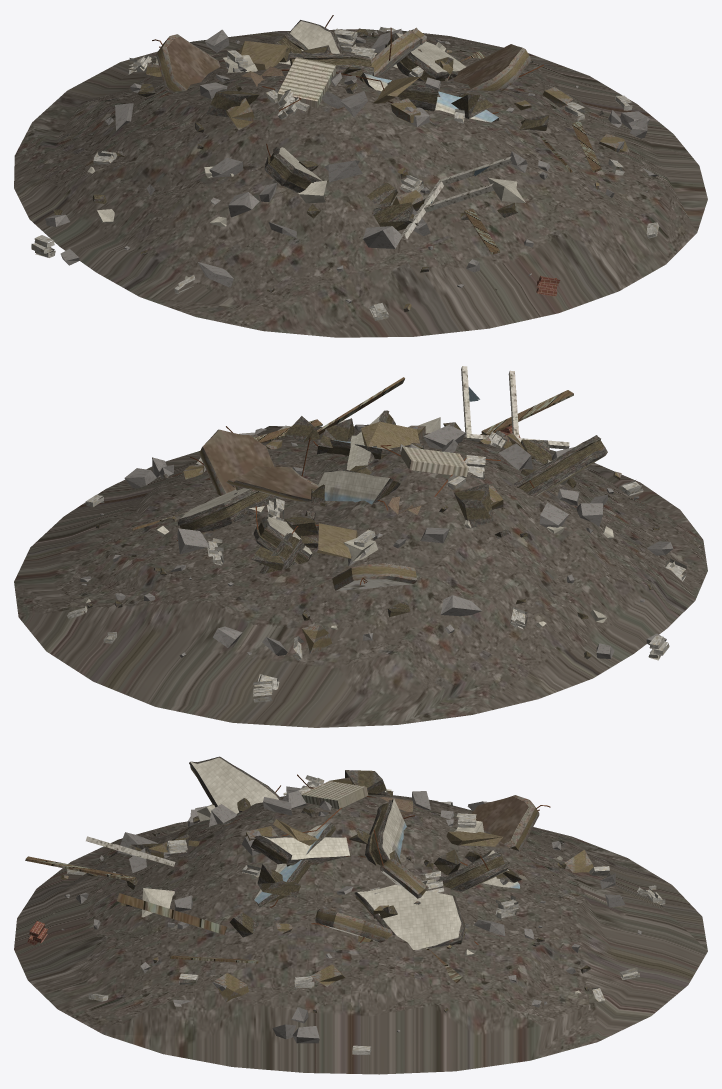
The model's file is rubble_7.glb.
3 renders of one model, top to bottom at view 1: azimuth 30°, elevation 25°; view 2: azimuth 150°, elevation 25°; view 3: azimuth 270°, elevation 25°, orthographic. The views are drawn at different scales.
Parts seen in each view (by area): view 1: rubble_7; view 2: rubble_7; view 3: rubble_7.
Part boxes in pixels (x1,y1,x2,y2): rubble_7: (14,15,707,337); rubble_7: (14,366,707,727); rubble_7: (14,756,707,1074).
Size of the model in its own units: 9.19 by 2.03 by 9.67.
Materials: 1 (1 with a texture image).
